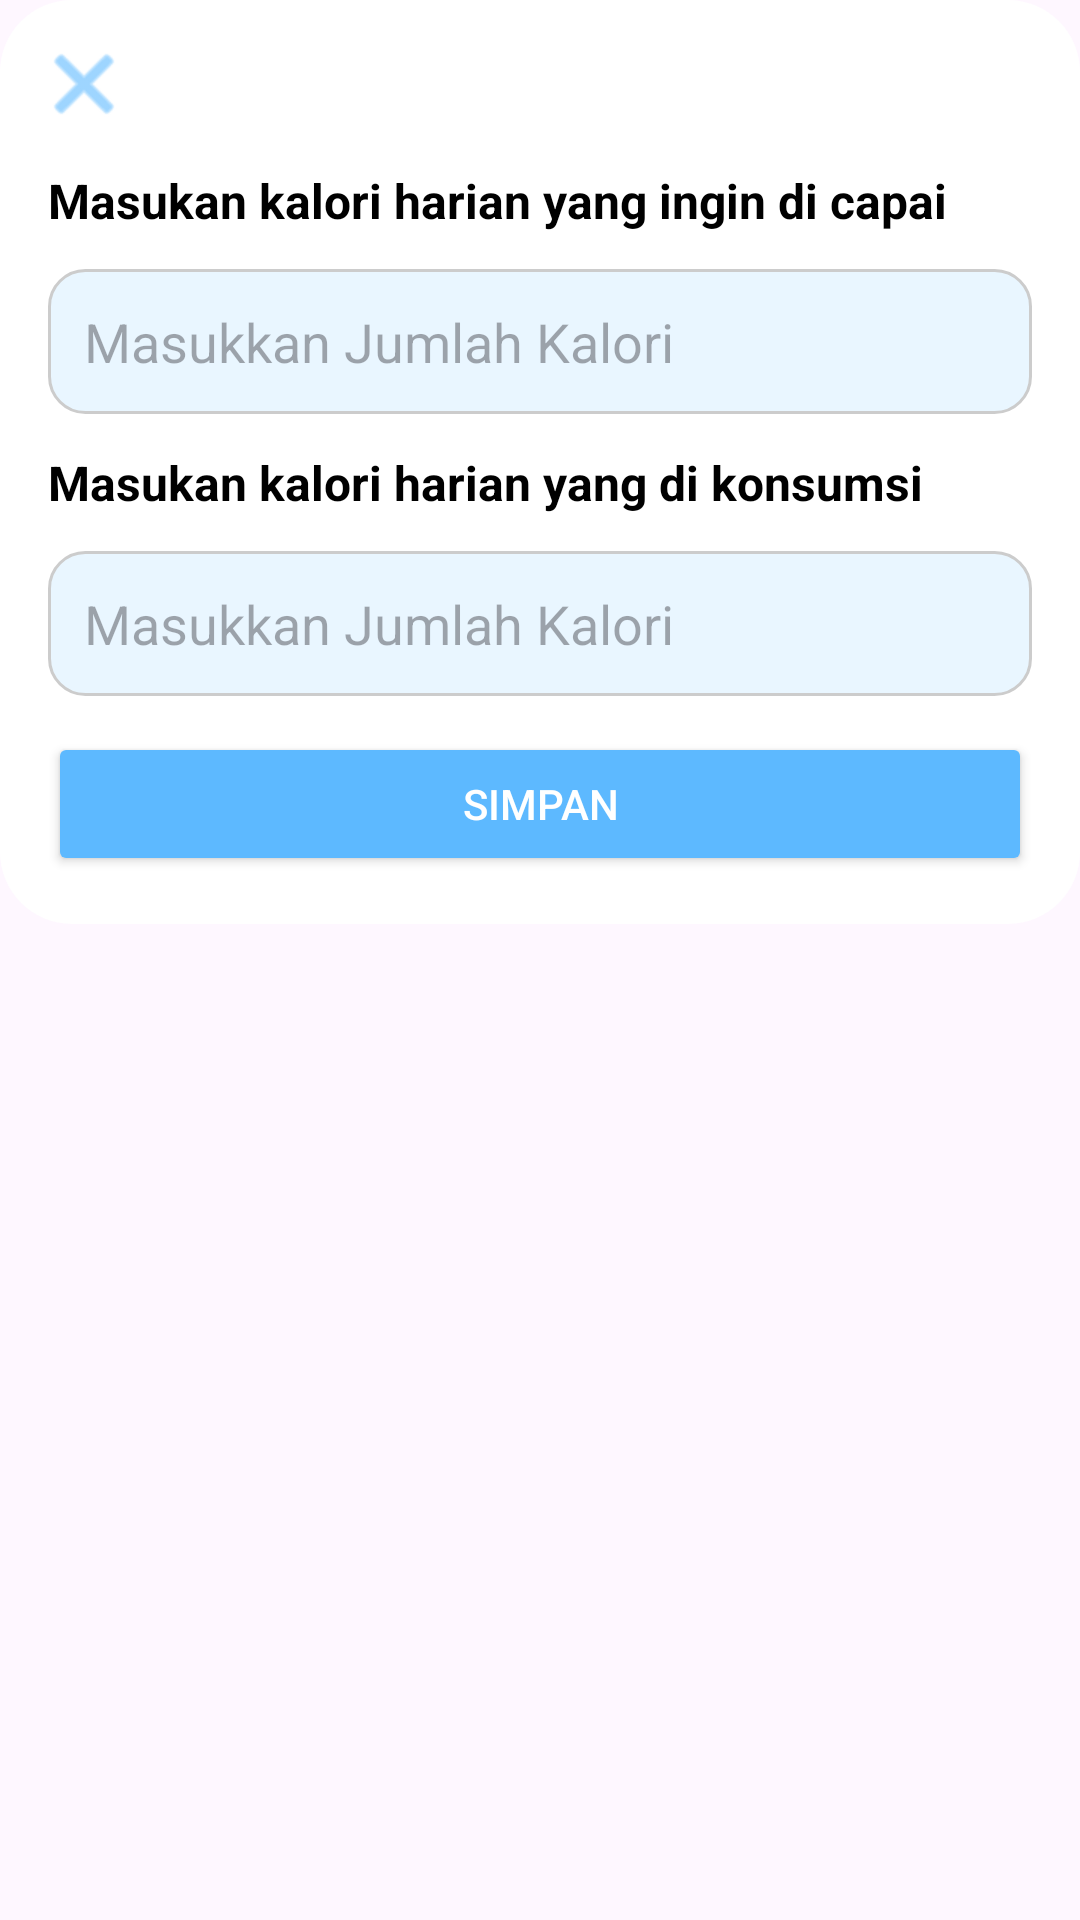

Named icons in this screenshot (1080px×1920px) and their centers, [x,y]:
Tutup: [84,84]
